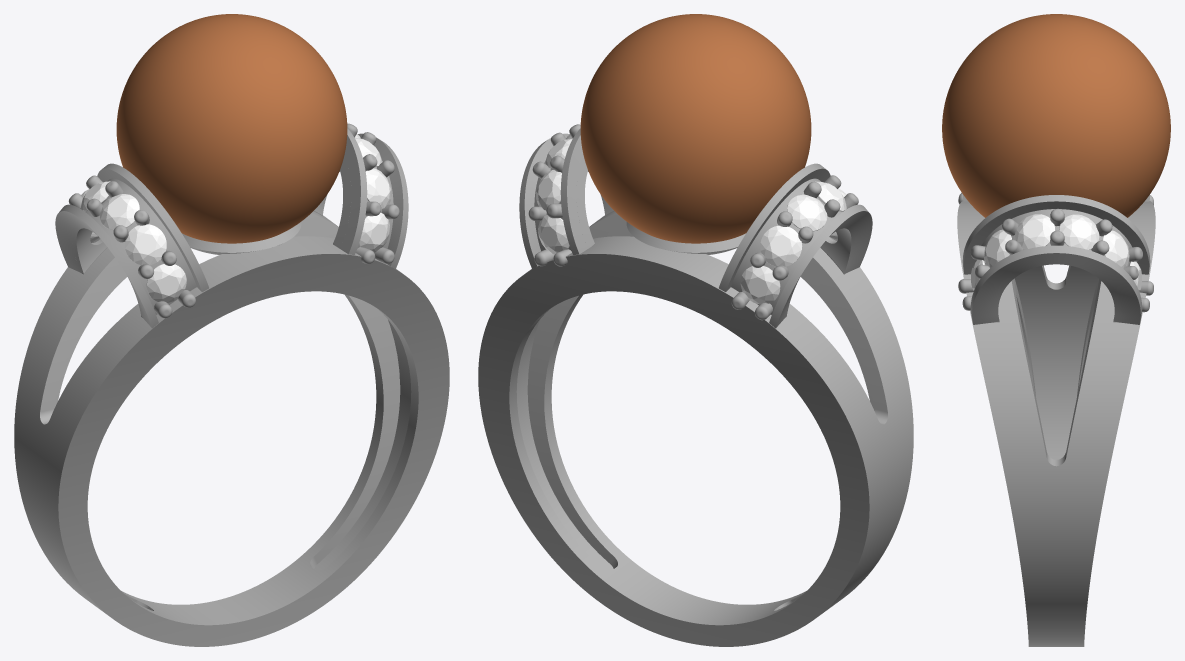
3 views of the same model, side by side, from view 1: azimuth 30°, elevation 25°; view 2: azimuth 150°, elevation 25°; view 3: azimuth 270°, elevation 25° (orthographic).
Visible parts, largest first — view 1: /uploads_files_4533379_sohrabi+cg+1_161.3dm, GemOnCrv (×5); view 2: /uploads_files_4533379_sohrabi+cg+1_161.3dm, GemOnCrv (×5); view 3: /uploads_files_4533379_sohrabi+cg+1_161.3dm, GemOnCrv (×4).
Part boxes in pixels (left/top/right/bottom): /uploads_files_4533379_sohrabi+cg+1_161.3dm: left=14, top=14, right=449, bottom=646; GemOnCrv (×5): left=100, top=168, right=391, bottom=302; /uploads_files_4533379_sohrabi+cg+1_161.3dm: left=478, top=14, right=913, bottom=646; GemOnCrv (×5): left=536, top=170, right=827, bottom=304; /uploads_files_4533379_sohrabi+cg+1_161.3dm: left=942, top=14, right=1170, bottom=646; GemOnCrv (×4): left=984, top=214, right=1129, bottom=268.
Bounding box in the file's own units: 2.15 × 3.19 × 1.1.
